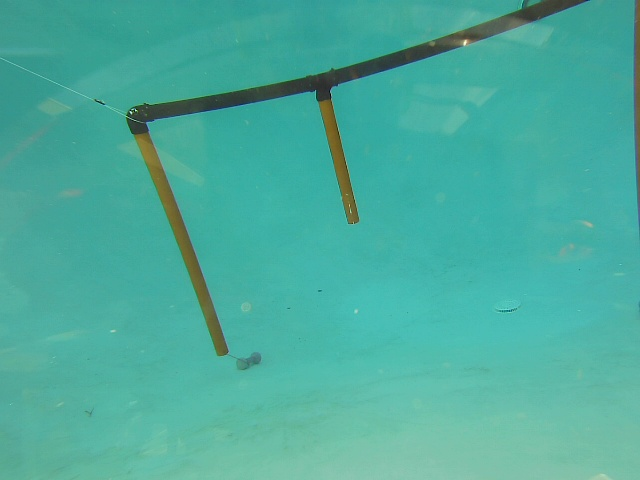Gate: (131, 129, 233, 360), (314, 94, 360, 226)
